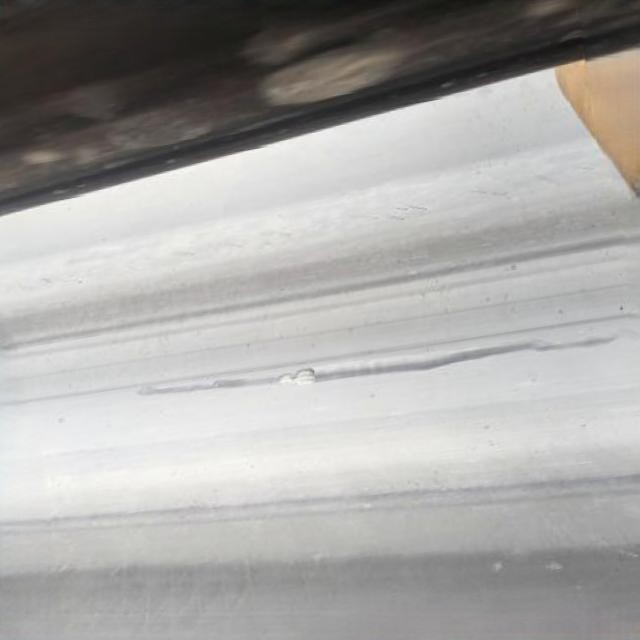Impact Damage: (272, 364, 318, 392)
